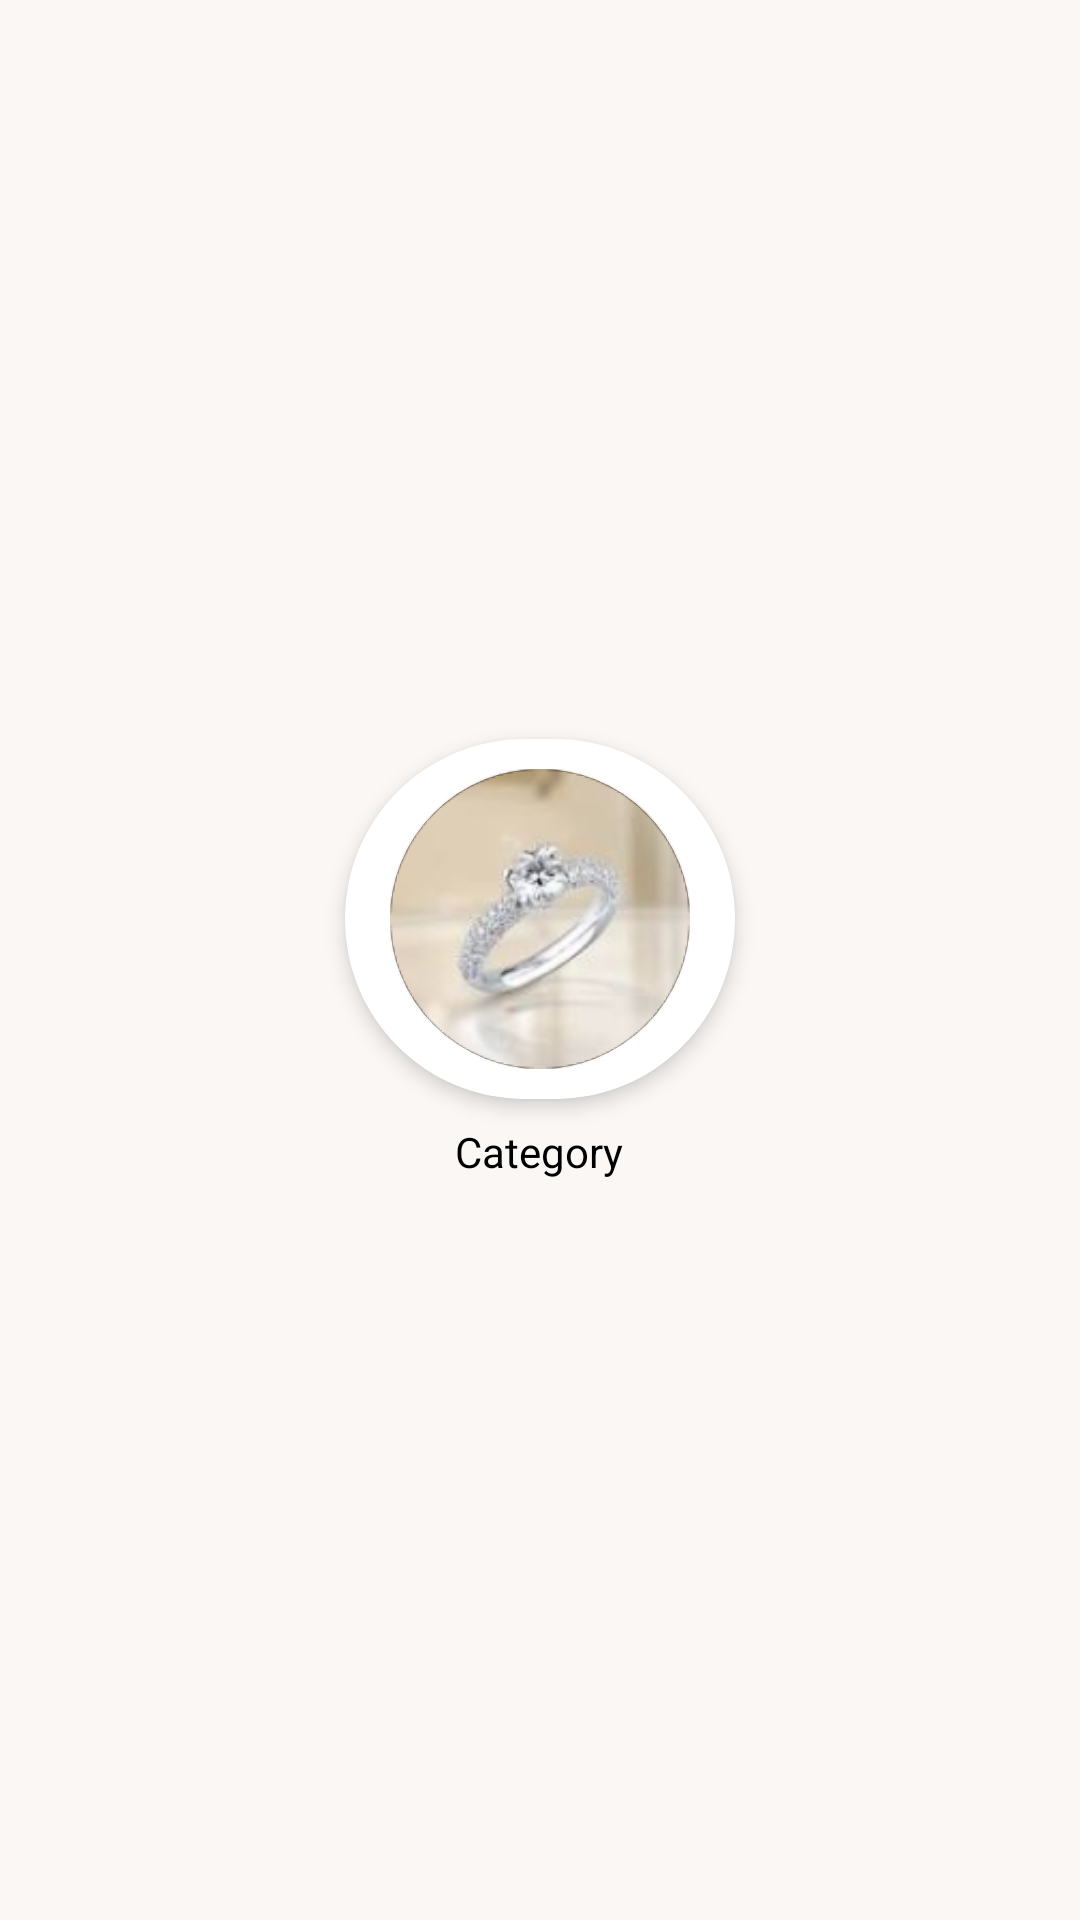

Icons on this 1080 x 1920 Android screen, each with its box as (x1, y1, x2, y2):
ring: (390, 769, 690, 1069)
